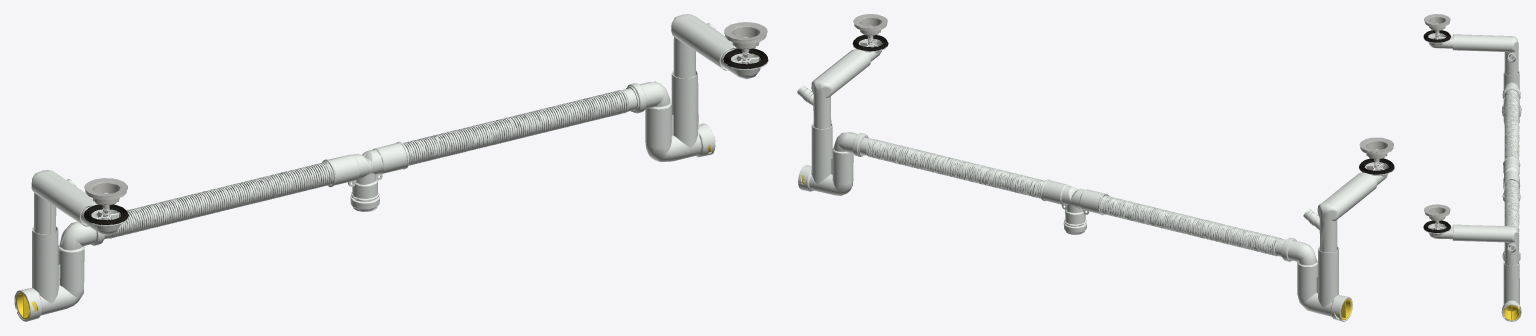
The model's file is rannilen_syfon_z_elastyczna_rurka_2_komory_10562434.glb.
3 renders of one model, left to right at view 1: azimuth 30°, elevation 25°; view 2: azimuth 150°, elevation 25°; view 3: azimuth 270°, elevation 25°, orthographic. The views are drawn at different scales.
Parts seen in each view (by area): view 1: rannilen_syfon_z_elastyczna_rurka_2_komory_10562434; view 2: rannilen_syfon_z_elastyczna_rurka_2_komory_10562434; view 3: rannilen_syfon_z_elastyczna_rurka_2_komory_10562434.
Part boxes in pixels (x1,y1,x2,y2): rannilen_syfon_z_elastyczna_rurka_2_komory_10562434: (14, 14, 768, 321); rannilen_syfon_z_elastyczna_rurka_2_komory_10562434: (797, 14, 1394, 321); rannilen_syfon_z_elastyczna_rurka_2_komory_10562434: (1423, 14, 1521, 321).
Size of the model in its own units: 1.16 by 0.2769 by 0.2337.
Materials: 1 (1 with a texture image).
